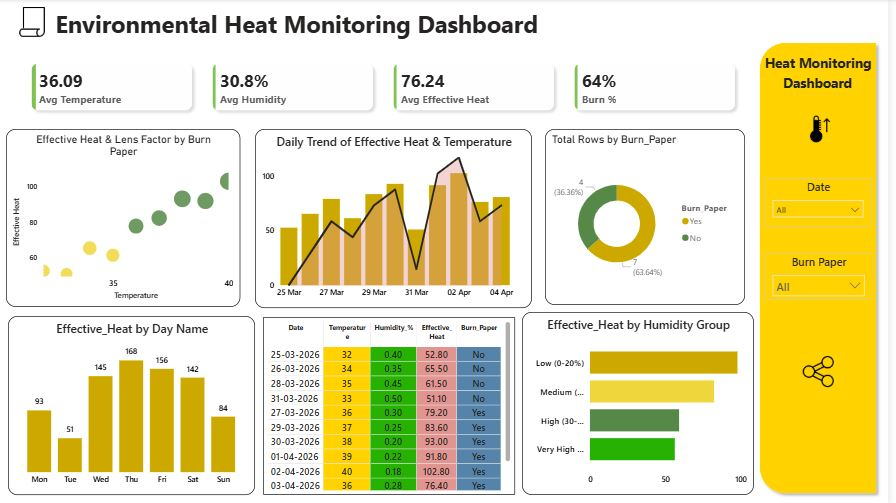

The dashboard page shown, as its layout file describes it:
{"tool":"powerbi","page":{"name":"Temperature","canvas":[1400,800],"ordinal":0},"visuals":[{"type":"shape","box":[1189,59.8,201.6,727.6],"z":0},{"type":"textbox","box":[1192.1,80.3,195.3,39.4],"z":1000},{"type":"textbox","box":[1222,111.8,133.9,42.5],"z":2000},{"type":"cardVisual","fields":{"Data":["temperature_humidity_burn_data_.Avg Temperature","temperature_humidity_burn_data_.Avg Humidity","temperature_humidity_burn_data_.Avg Effective Heat","temperature_humidity_burn_data_.Burn %"]},"box":[22,72.4,1166.9,132.3],"z":3000},{"type":"textbox","box":[77.2,7.9,782.7,72.4],"z":4000},{"type":"lineClusteredColumnComboChart","title":"Daily Trend of Effective Heat & Temperature","fields":{"Category":["temperature_humidity_burn_data_.Date"],"Y":["Avg(temperature_humidity_burn_data_.Effective_Heat)"],"Y2":["Avg(temperature_humidity_burn_data_.Temperature_C)"]},"box":[403.1,204.7,436.2,281.9],"z":5000},{"type":"clusteredColumnChart","title":"Effective_Heat by Day Name","fields":{"Y":["Sum(temperature_humidity_burn_data_.Effective_Heat)"],"Category":["temperature_humidity_burn_data_.Day Name"]},"box":[14.2,499.2,389,281.9],"z":6000},{"type":"scatterChart","title":"Effective Heat & Lens Factor by Burn Paper","fields":{"Y":["Avg(temperature_humidity_burn_data_.Effective_Heat)"],"X":["temperature_humidity_burn_data_.Temperature_C"],"Size":["Avg(temperature_humidity_burn_data_.Lens_Factor)"],"Series":["temperature_humidity_burn_data_.Burn_Paper"]},"box":[11,204.7,368.5,280.3],"z":7000},{"type":"donutChart","fields":{"Category":["temperature_humidity_burn_data_.Burn_Paper"],"Y":["temperature_humidity_burn_data_.Total Rows"]},"box":[859.8,204.7,315,277.2],"z":8000},{"type":"barChart","title":"Effective_Heat by Humidity Group","fields":{"Y":["Avg(temperature_humidity_burn_data_.Effective_Heat)"],"Category":["temperature_humidity_burn_data_.Humidity Group"]},"box":[823.6,492.9,365.4,288.2],"z":9000},{"type":"tableEx","fields":{"Values":["temperature_humidity_burn_data_.Date","Sum(temperature_humidity_burn_data_.Temperature_C)","Sum(temperature_humidity_burn_data_.Humidity_%)","Avg(temperature_humidity_burn_data_.Effective_Heat)","temperature_humidity_burn_data_.Burn_Paper"]},"box":[415.7,500.8,396.9,280.3],"z":10000},{"type":"slicer","title":"Date","fields":{"Values":["temperature_humidity_burn_data_.Date"]},"box":[1206.3,281.9,166.9,77.2],"z":11000},{"type":"slicer","title":"Burn Paper","fields":{"Values":["temperature_humidity_burn_data_.Burn_Paper"]},"box":[1206.3,400,168.5,74],"z":12000},{"type":"image","box":[1266.1,182.7,53.5,44.1],"z":13000},{"type":"image","box":[11,12.6,81.9,47.2],"z":14000},{"type":"image","box":[1245.7,562.2,88.2,48.8],"z":15000}]}

Visuals, with their boxes in screenshot pixels (x1, y1, x2, y2), scaled from the page's 1400x800 canvas onto the 896x503 screenshot:
shape: 761:38:890:495
textbox: 763:50:888:75
textbox: 782:70:868:97
cardVisual - temperature_humidity_burn_data_.Avg Temperature x temperature_humidity_burn_data_.Avg Humidity: 14:46:761:129
textbox: 49:5:550:50
"Daily Trend of Effective Heat & Temperature" lineClusteredColumnComboChart: 258:129:537:306
"Effective_Heat by Day Name" clusteredColumnChart: 9:314:258:491
"Effective Heat & Lens Factor by Burn Paper" scatterChart: 7:129:243:305
donutChart - temperature_humidity_burn_data_.Burn_Paper x temperature_humidity_burn_data_.Total Rows: 550:129:752:303
"Effective_Heat by Humidity Group" barChart: 527:310:761:491
tableEx - temperature_humidity_burn_data_.Date x Sum(temperature_humidity_burn_data_.Temperature_C): 266:315:520:491
"Date" slicer: 772:177:879:226
"Burn Paper" slicer: 772:252:880:298
image: 810:115:845:143
image: 7:8:59:38
image: 797:353:854:384
